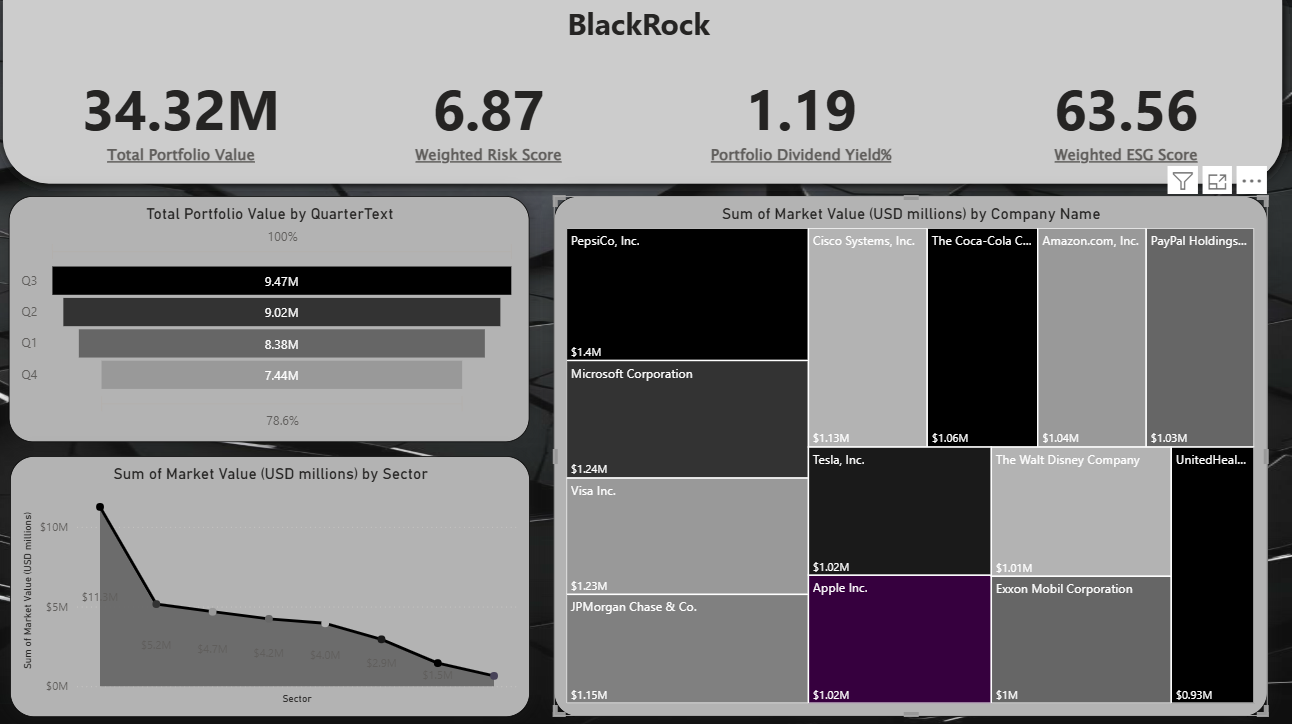

This screenshot's page, from the dashboard's own definition file:
{"tool":"powerbi","page":{"name":"Portfolio Overview","canvas":[1400,800],"ordinal":0},"visuals":[{"type":"shape","box":[0,0,1399.5,225.5],"z":0},{"type":"textbox","box":[613.9,13.4,170.2,55],"z":1000},{"type":"card","fields":{"Values":["Holdings.Portfolio Dividend Yield %"]},"box":[724.2,54.3,292.1,171.2],"z":2000},{"type":"card","fields":{"Values":["Holdings.Total Portfolio Value"]},"box":[58.4,54.3,292.1,171.2],"z":3000},{"type":"card","fields":{"Values":["Holdings.Weighted Risk Score"]},"box":[384.5,54.3,300.3,171.2],"z":4000},{"type":"card","fields":{"Values":["Holdings.Weighted ESG Score"]},"box":[1066.6,54.3,303,171.2],"z":5000},{"type":"funnel","fields":{"Category":["DateTable.QuarterText"],"Y":["Holdings.Total Portfolio Value"]},"box":[19.5,225.1,558.3,264.2],"z":6000},{"type":"stackedAreaChart","fields":{"Category":["Holdings.Sector"],"Y":["Sum(Holdings.Market Value (USD millions))"]},"box":[21.4,504,557.6,280.2],"z":7000},{"type":"treemap","fields":{"Group":["Holdings.Company Name"],"Values":["Sum(Holdings.Market Value (USD millions))"]},"box":[604.8,225.1,765.4,558.3],"z":8000}]}

Visuals, with their boxes in screenshot pixels (x1, y1, x2, y2), scaled from the page's 1400x800 canvas onto the 1292x724 screenshot:
shape: box=[0, 0, 1291, 204]
textbox: box=[567, 12, 724, 62]
card - Holdings.Portfolio Dividend Yield %: box=[668, 49, 938, 204]
card - Holdings.Total Portfolio Value: box=[54, 49, 323, 204]
card - Holdings.Weighted Risk Score: box=[355, 49, 632, 204]
card - Holdings.Weighted ESG Score: box=[984, 49, 1264, 204]
funnel - DateTable.QuarterText x Holdings.Total Portfolio Value: box=[18, 204, 533, 443]
stackedAreaChart - Holdings.Sector x Sum(Holdings.Market Value (USD millions)): box=[20, 456, 534, 710]
treemap - Holdings.Company Name x Sum(Holdings.Market Value (USD millions)): box=[558, 204, 1264, 709]
